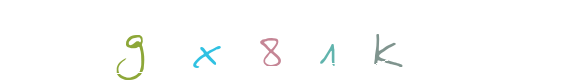1: (243, 0, 323, 80)
8: (221, 0, 301, 80)
G: (94, 0, 174, 80)
K: (326, 0, 406, 80)
X: (166, 0, 246, 80)
